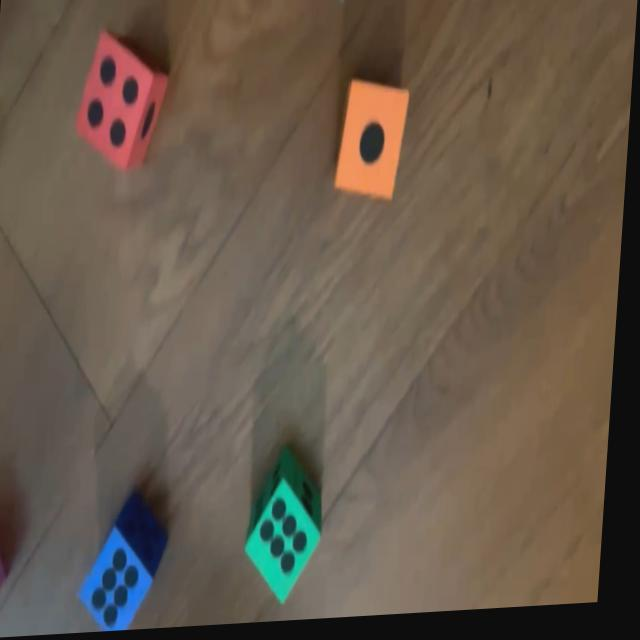blue_block: (85, 493, 179, 634)
red_block: (75, 29, 173, 175)
